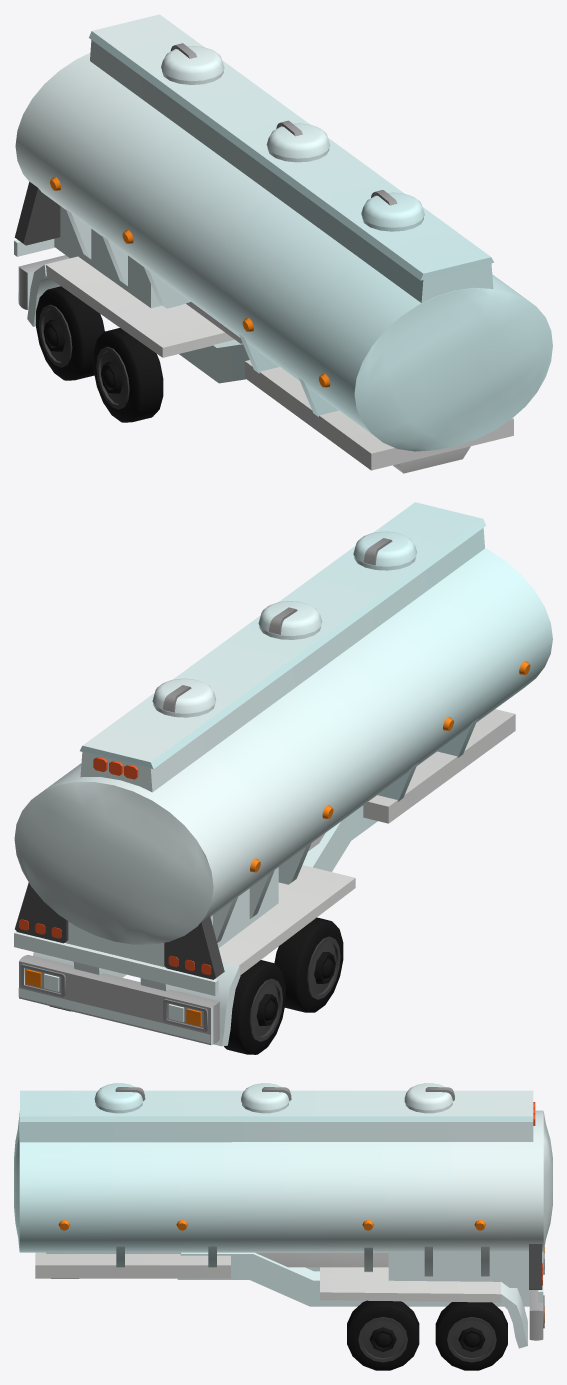
The model's file is Trailer_3_lvl2.fbx.
3 views of the same model, one above another, from view 1: azimuth 30°, elevation 25°; view 2: azimuth 150°, elevation 25°; view 3: azimuth 270°, elevation 25° (orthographic). The views are drawn at different scales.
Visible parts, largest first — view 1: 2_002_002, R3_071, R3_069; view 2: 2_002_002, R3_071, R3_069; view 3: 2_002_002, R3_070, R3_068.
Part boxes in pixels (box(x1,y1,x2,y2)): 2_002_002: box(14, 14, 552, 473); R3_071: box(93, 328, 163, 422); R3_069: box(36, 286, 104, 380); 2_002_002: box(14, 502, 552, 1046); R3_071: box(274, 917, 343, 1012); R3_069: box(224, 960, 285, 1054); 2_002_002: box(14, 1083, 552, 1348); R3_070: box(347, 1300, 419, 1370); R3_068: box(435, 1302, 507, 1370).
Size of the model in its own units: 3335 by 4554 by 9024.
